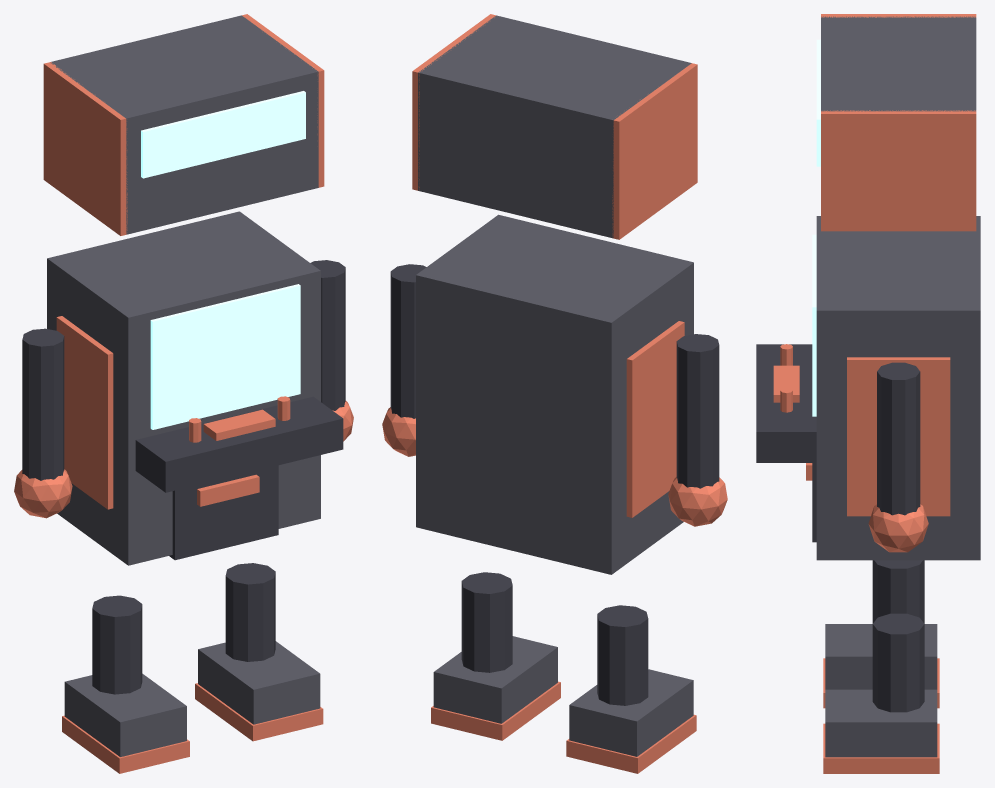
The model's file is living-arcade-cabinet.glb.
3 views of the same model, side by side, from view 1: azimuth 30°, elevation 25°; view 2: azimuth 150°, elevation 25°; view 3: azimuth 270°, elevation 25° (orthographic).
Parts seen in each view (by area): view 1: CabinetTorso, MarqueeBonnet, ScreenFace, Trim_L, ControlDeck, SideArt_L, MarqueeSign, CasterBoot_L, CasterBoot_R, CoinDoor, Arm_L, Leg_L (+8 smaller); view 2: CabinetTorso, MarqueeBonnet, Trim_L, SideArt_L, CasterBoot_R, CasterBoot_L, Arm_L, Leg_L, Leg_R, Arm_R, Rim_L, Rim_R (+3 smaller); view 3: CabinetTorso, Trim_R, MarqueeBonnet, SideArt_R, CasterBoot_R, Arm_R, ControlDeck, Leg_R, CasterBoot_L, Leg_L, Rim_R, BallTop_R (+5 smaller).
Boxes of the visible parts, x1=… form: CabinetTorso: x1=47, y1=211, x2=320, y2=565; MarqueeBonnet: x1=50, y1=15, x2=318, y2=234; ScreenFace: x1=150, y1=284, x2=300, y2=429; Trim_L: x1=43, y1=62, x2=127, y2=235; ControlDeck: x1=135, y1=396, x2=343, y2=492; SideArt_L: x1=56, y1=316, x2=113, y2=509; MarqueeSign: x1=141, y1=91, x2=305, y2=178; CasterBoot_L: x1=64, y1=673, x2=186, y2=756; CasterBoot_R: x1=198, y1=641, x2=320, y2=724; CoinDoor: x1=169, y1=465, x2=278, y2=560; Arm_L: x1=22, y1=328, x2=64, y2=480; Leg_L: x1=92, y1=595, x2=142, y2=694; CabinetTorso: x1=416, y1=214, x2=693, y2=574; MarqueeBonnet: x1=418, y1=15, x2=691, y2=238; Trim_L: x1=612, y1=63, x2=697, y2=239; SideArt_L: x1=626, y1=321, x2=684, y2=517; CasterBoot_R: x1=433, y1=636, x2=557, y2=723; CasterBoot_L: x1=569, y1=669, x2=693, y2=756; Arm_L: x1=676, y1=334, x2=719, y2=488; Leg_L: x1=597, y1=605, x2=648, y2=705; Leg_R: x1=461, y1=572, x2=512, y2=672; Arm_R: x1=390, y1=264, x2=426, y2=418; Rim_L: x1=566, y1=714, x2=696, y2=773; Rim_R: x1=431, y1=681, x2=560, y2=740; CabinetTorso: x1=816, y1=216, x2=980, y2=560; Trim_R: x1=821, y1=110, x2=976, y2=231; MarqueeBonnet: x1=821, y1=16, x2=976, y2=111; SideArt_R: x1=847, y1=357, x2=950, y2=516; CasterBoot_R: x1=825, y1=689, x2=937, y2=757; Arm_R: x1=877, y1=362, x2=920, y2=515; ControlDeck: x1=756, y1=344, x2=816, y2=462; Leg_R: x1=872, y1=613, x2=924, y2=712; CasterBoot_L: x1=825, y1=624, x2=937, y2=689; Leg_L: x1=872, y1=560, x2=924, y2=623; Rim_R: x1=823, y1=723, x2=939, y2=773; BallTop_R: x1=868, y1=504, x2=928, y2=552.
Bounding box in the file's own units: 0.8931 × 1.69 × 0.52.
